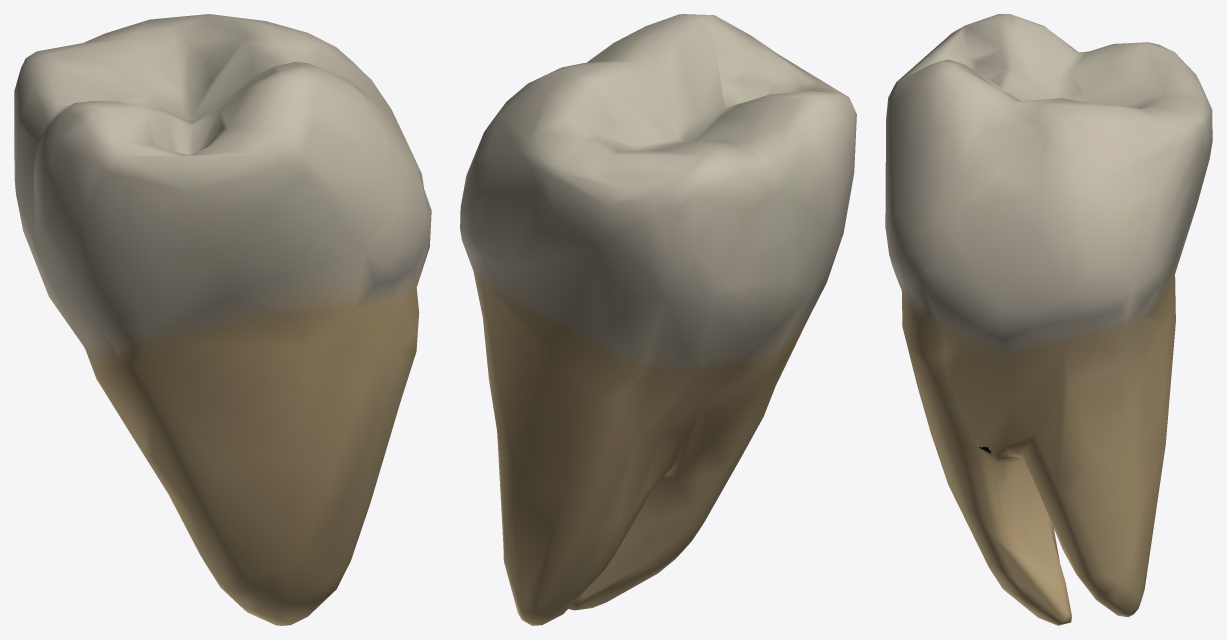
The model's file is mandibular_third_molar.glb.
The picture shows the model from 3 angles, left to right: view 1: azimuth 30°, elevation 25°; view 2: azimuth 150°, elevation 25°; view 3: azimuth 270°, elevation 25°; orthographic projection. The views are drawn at different scales.
Parts seen in each view (by area): view 1: Object_2; view 2: Object_2; view 3: Object_2.
Part boxes in pixels (x1,y1,x2,y2): Object_2: (14, 14, 431, 625); Object_2: (460, 14, 856, 625); Object_2: (885, 14, 1212, 625).
Bounding box in the file's own units: 0.9684 × 1.53 × 0.8549.
1 material, 1 textured.
